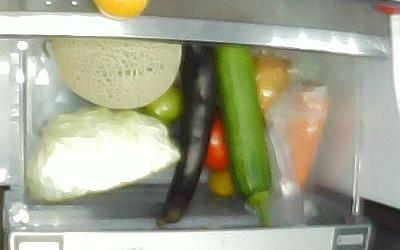cabbage: (29, 109, 180, 201)
carrot_vinyl: (285, 80, 329, 191)
eggplant: (158, 41, 214, 223)
melon: (51, 39, 182, 108)
pear_vinyl: (251, 53, 290, 121)
tomato: (142, 86, 182, 125), (204, 115, 229, 172)
zucchini: (211, 45, 276, 227)
